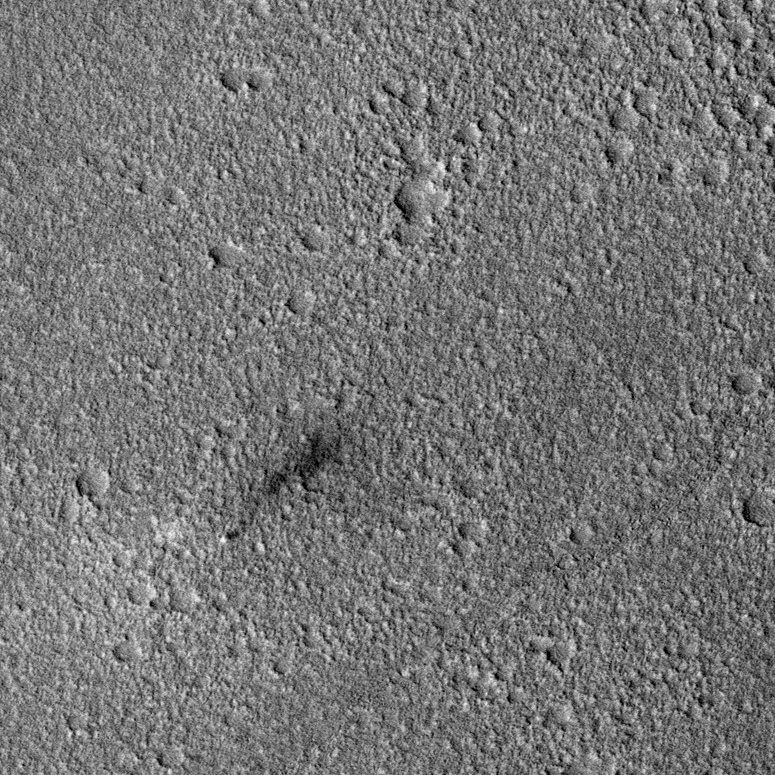dust_devil: (216, 424, 338, 547)
